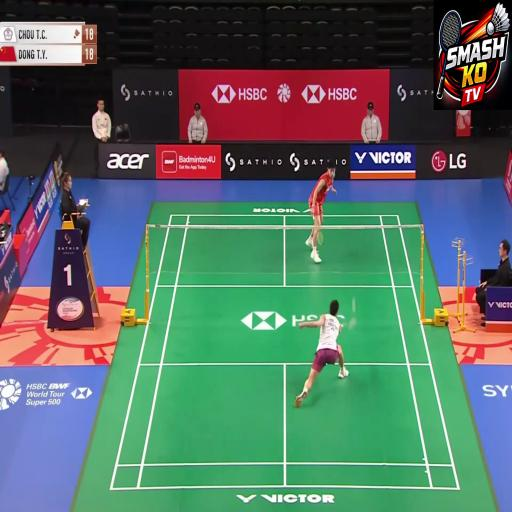player: (294, 282, 354, 414), (294, 146, 344, 272)
